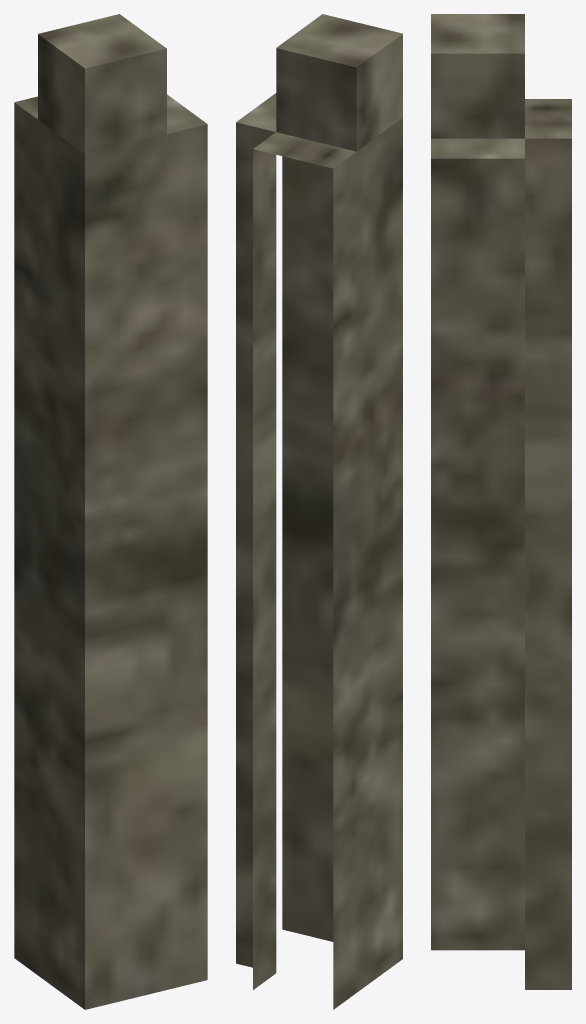
File: Wall_Corner_90_Small.fbx
3 views of the same model, side by side, from view 1: azimuth 30°, elevation 25°; view 2: azimuth 150°, elevation 25°; view 3: azimuth 270°, elevation 25° (orthographic).
Visible parts, largest first — view 1: Wall_Corner_90.001; view 2: Wall_Corner_90.001; view 3: Wall_Corner_90.001.
Boxes of the visible parts, left/top/right/bottom form: Wall_Corner_90.001: left=14, top=14, right=207, bottom=1009; Wall_Corner_90.001: left=236, top=14, right=402, bottom=1009; Wall_Corner_90.001: left=431, top=14, right=571, bottom=989.
Size of the model in its own units: 150 by 1100 by 150.
